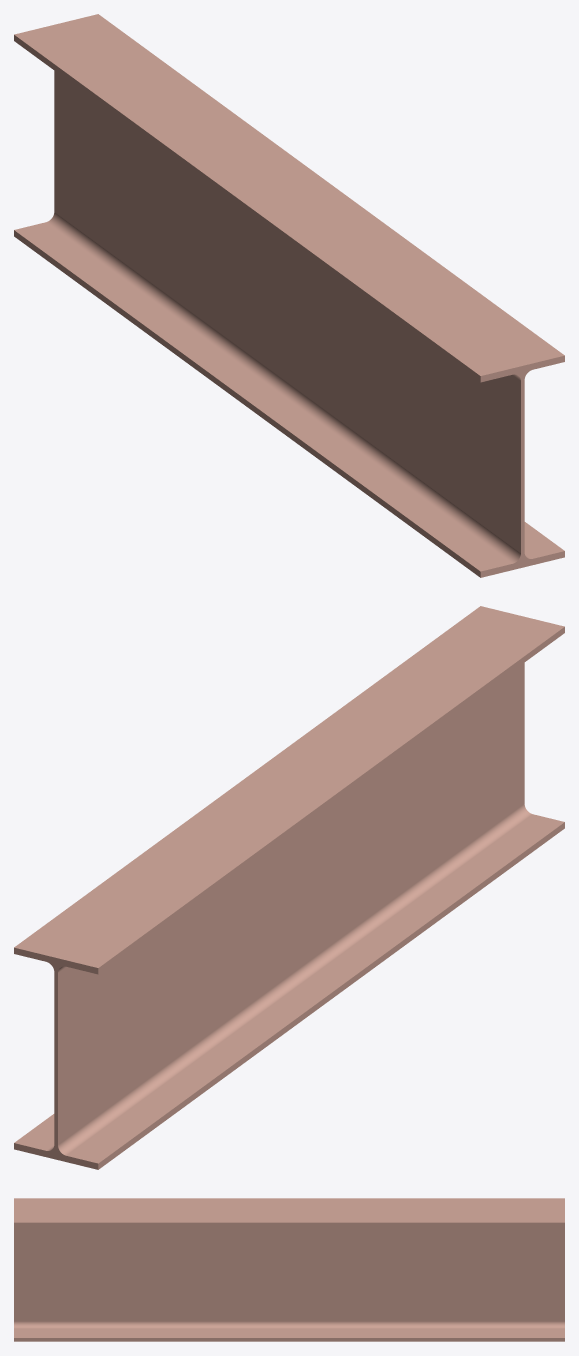
3 views of the same model, one above another, from view 1: azimuth 30°, elevation 25°; view 2: azimuth 150°, elevation 25°; view 3: azimuth 270°, elevation 25° (orthographic). The views are drawn at different scales.
Visible parts, largest first — view 1: product-931478f7-4299-4162-b6db-50adb97c40f0-body; view 2: product-931478f7-4299-4162-b6db-50adb97c40f0-body; view 3: product-931478f7-4299-4162-b6db-50adb97c40f0-body.
Boxes of the visible parts, box(x1,y1,x2,y2) form: product-931478f7-4299-4162-b6db-50adb97c40f0-body: box(14, 14, 564, 577); product-931478f7-4299-4162-b6db-50adb97c40f0-body: box(14, 606, 564, 1169); product-931478f7-4299-4162-b6db-50adb97c40f0-body: box(14, 1198, 564, 1341).
Size of the model in its own units: 0.1778 by 0.4064 by 1.7.
